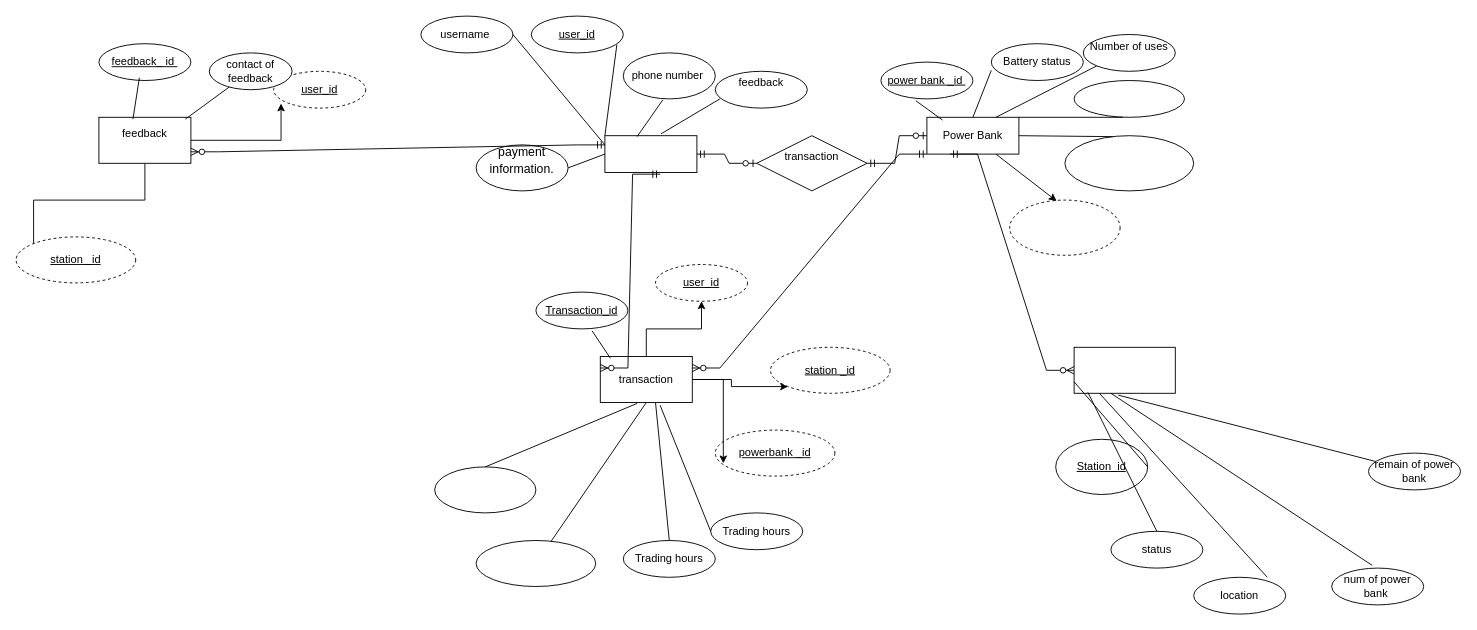
Some shapes in this 1477 by 630 pixel diagram are drawn without their labels. Each missing label, with the box of its shape:
ID of the charging station: (1009, 199, 1120, 255)
Last Charge Date: (1073, 80, 1184, 117)
Payment methods: (434, 466, 536, 513)
Return Status (Returned/Not Returned): (1064, 135, 1194, 191)
Station: (1073, 346, 1175, 393)
The amount of the transaction: (475, 540, 596, 586)
User: (604, 135, 697, 172)
